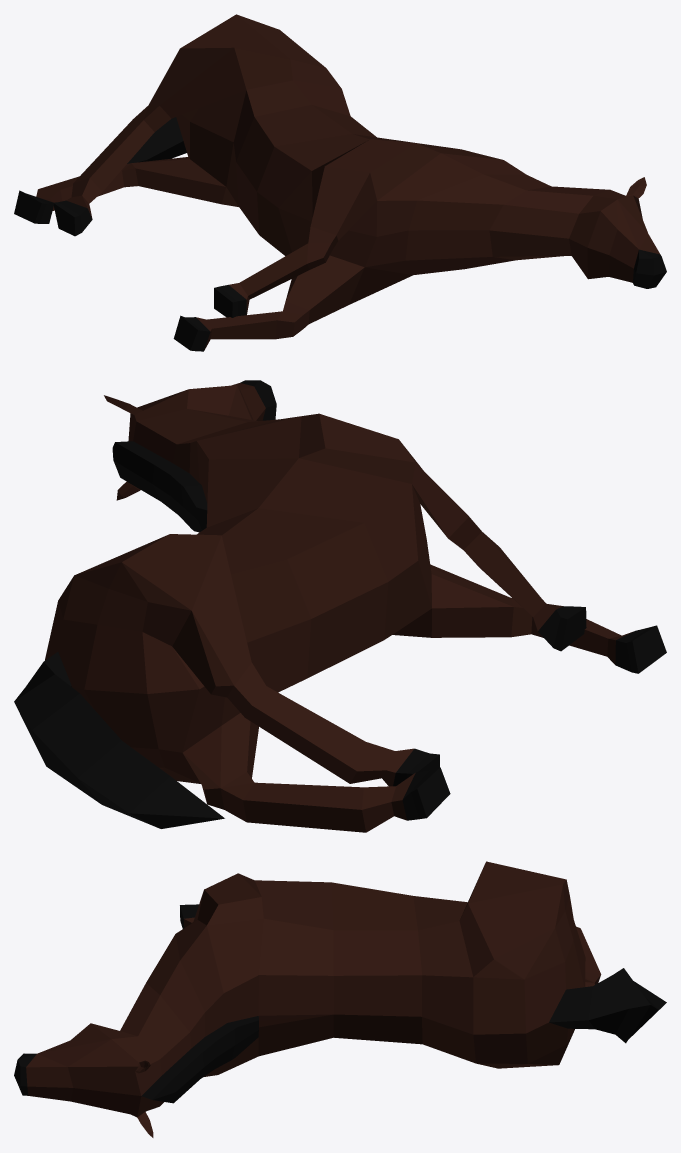
File: Horse_000028.obj
The picture shows the model from 3 angles, top to bottom: view 1: azimuth 30°, elevation 25°; view 2: azimuth 150°, elevation 25°; view 3: azimuth 270°, elevation 25°; orthographic projection. The views are drawn at different scales.
Visible parts, largest first — view 1: Horse_Cylinder; view 2: Horse_Cylinder; view 3: Horse_Cylinder.
Boxes of the visible parts, <box> form: Horse_Cylinder: <box>14,14,666,351</box>; Horse_Cylinder: <box>14,380,666,832</box>; Horse_Cylinder: <box>14,861,666,1137</box>.
Size of the model in its own units: 7.42 by 2.74 by 9.12.
